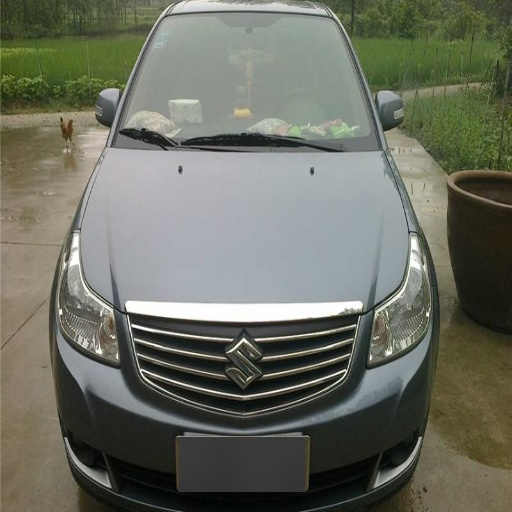front_bumper: (57, 310, 430, 511)
front_right_light: (55, 233, 122, 367)
hood: (80, 130, 410, 331), (141, 334, 214, 388)
